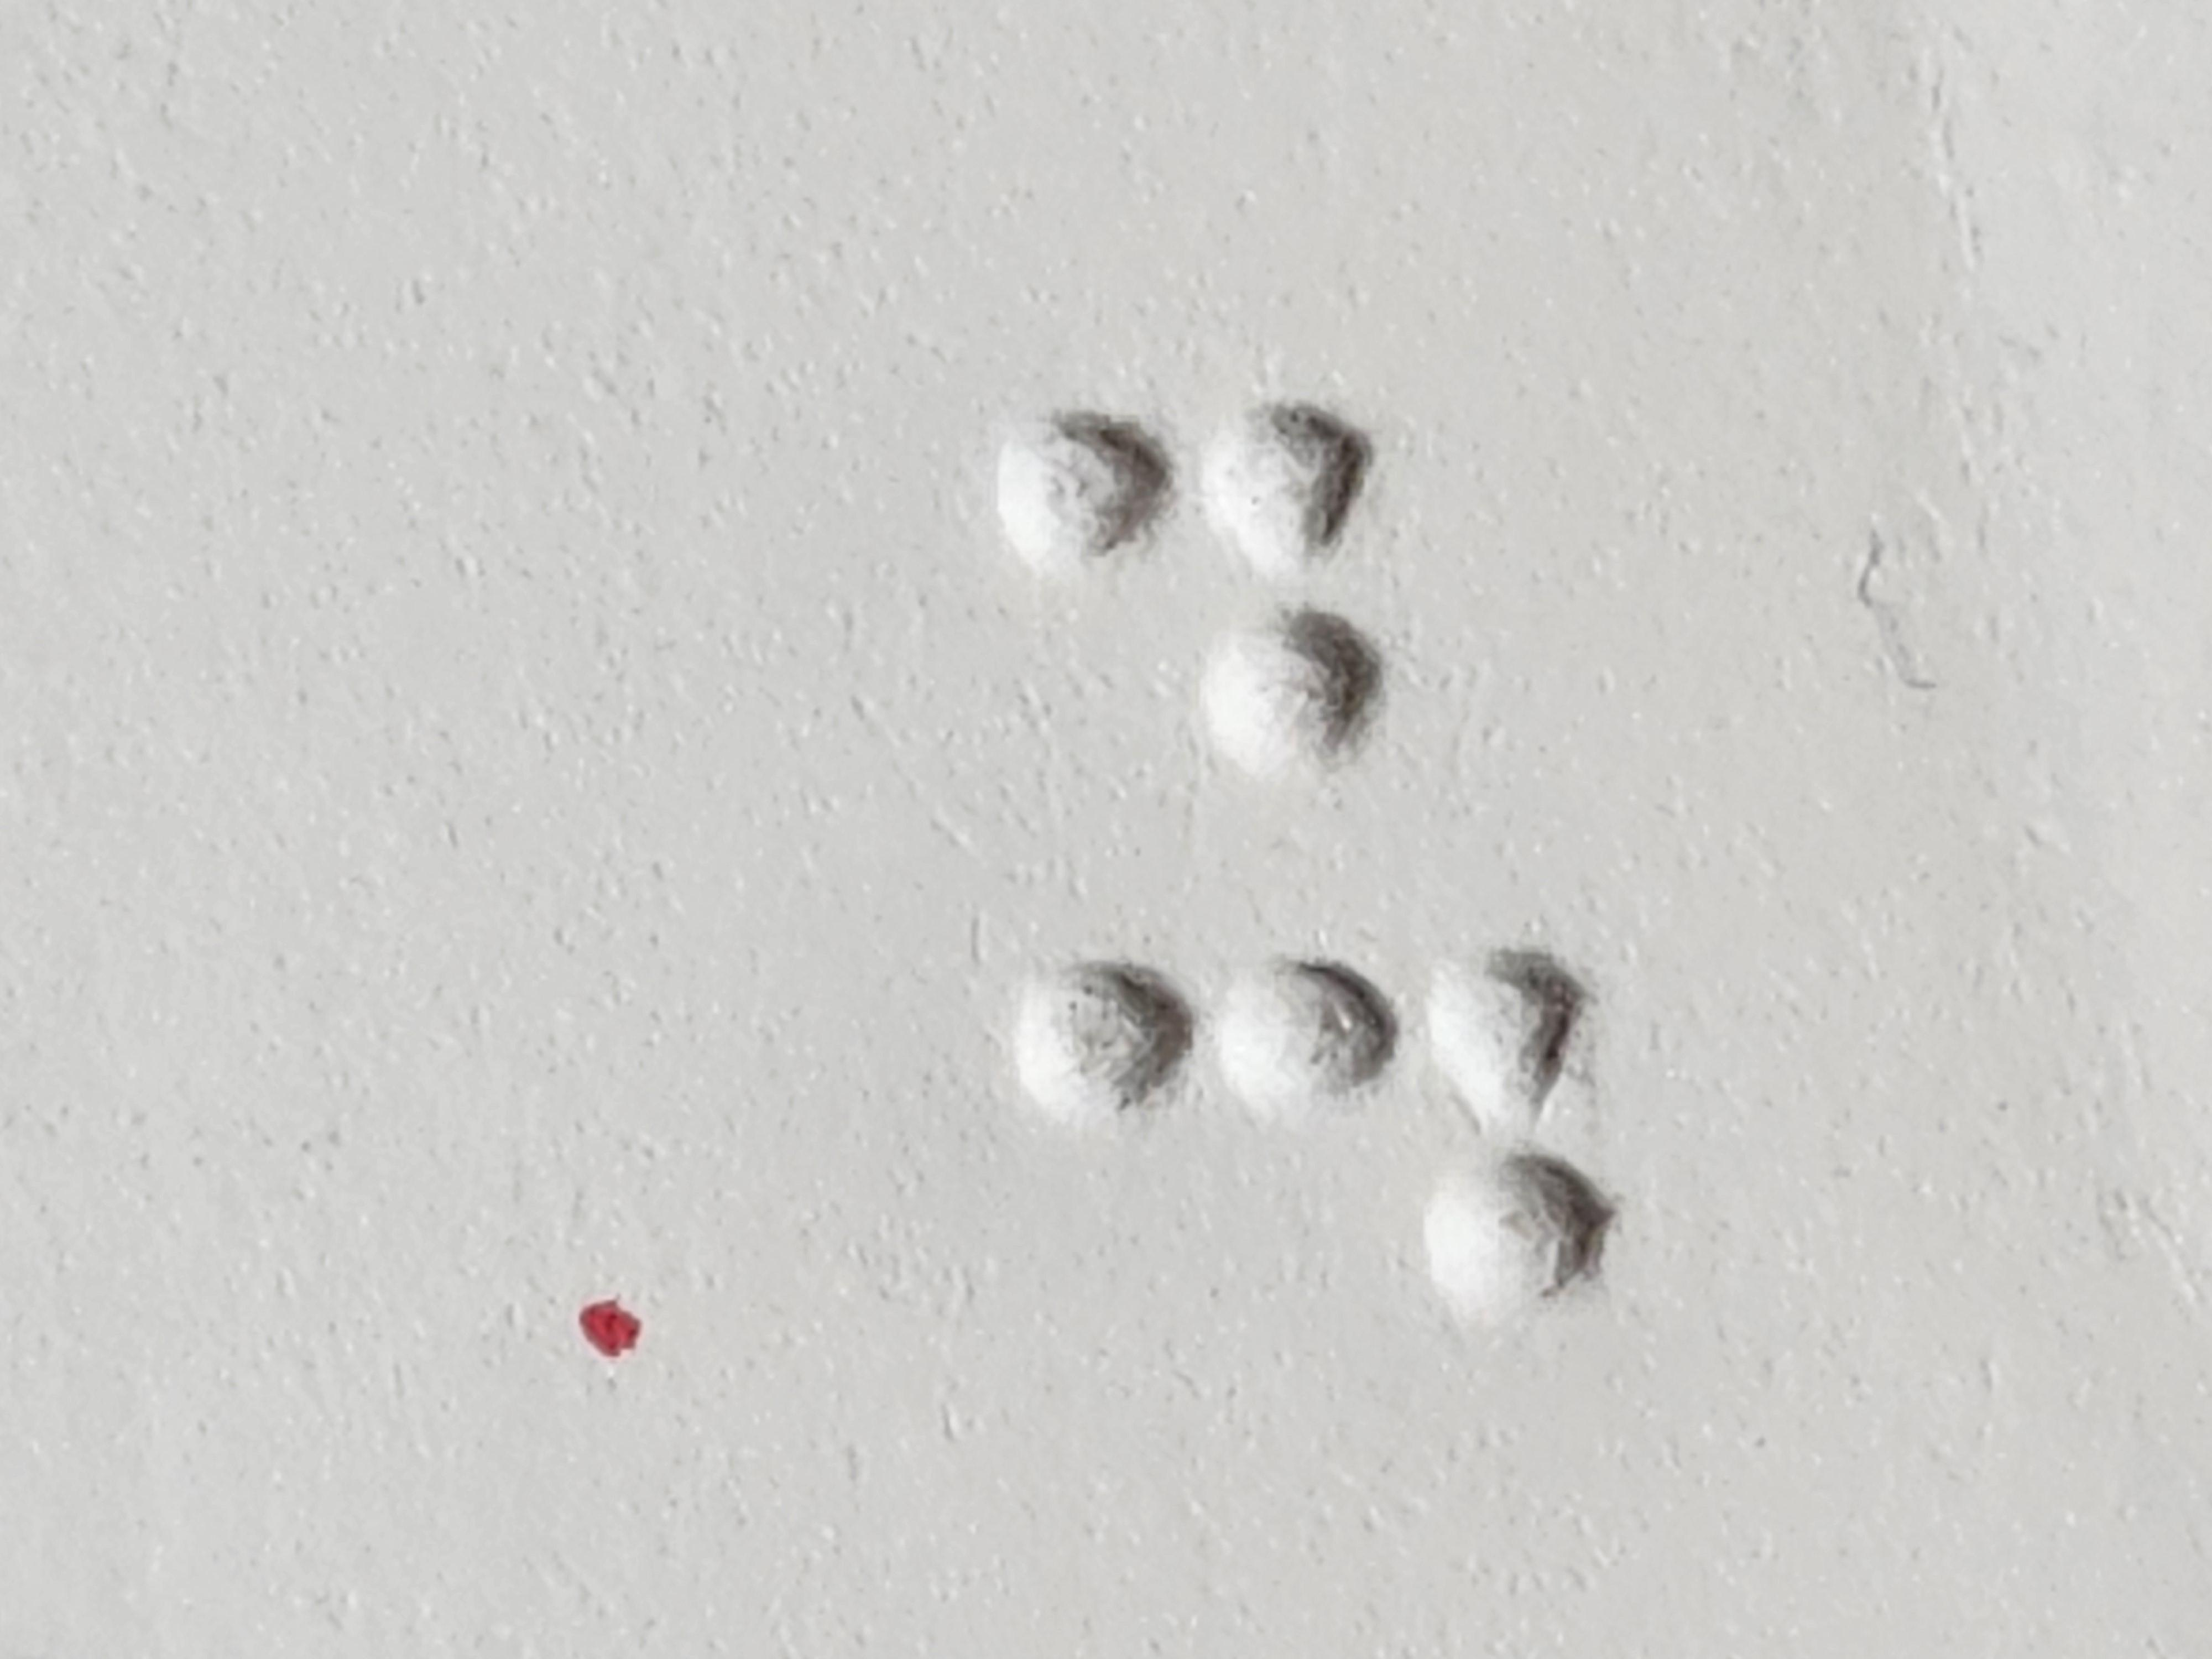digit_0: (1177, 749, 1663, 1197)
number_sign: (451, 756, 939, 1204)
